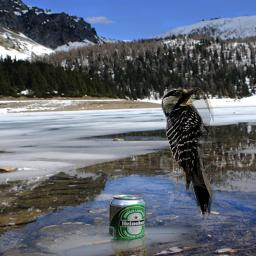Woodpecker: (160, 87, 225, 220)
